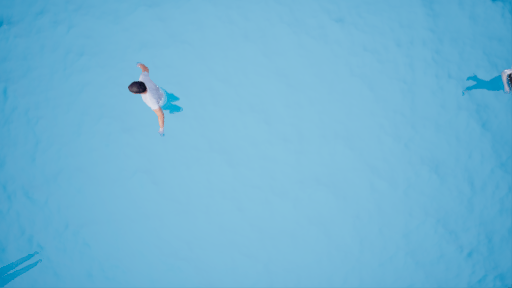person: (124, 59, 185, 137)
